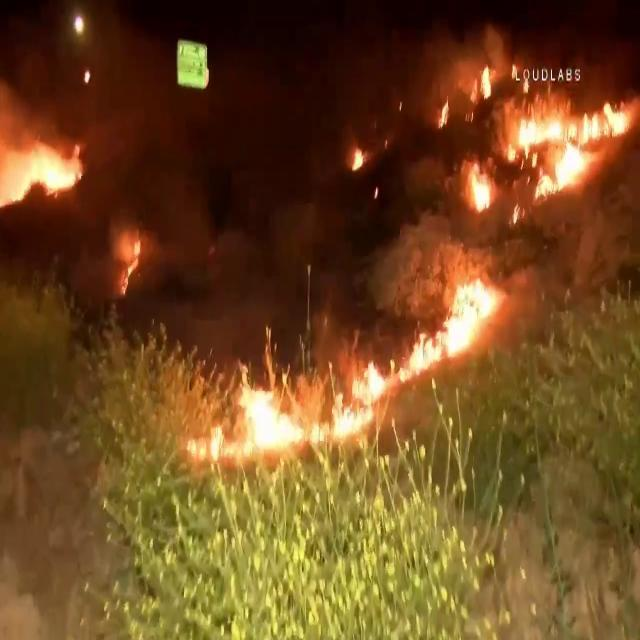Fire: (424, 43, 638, 257), (207, 333, 390, 463), (410, 265, 510, 371), (0, 132, 87, 210), (117, 225, 141, 295)
